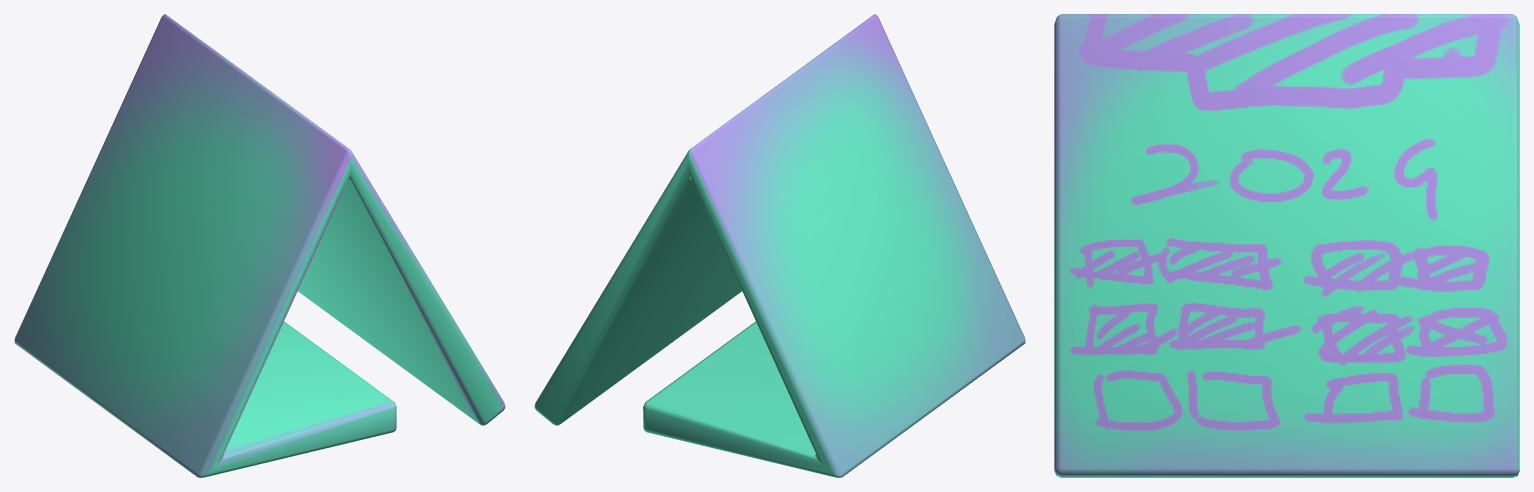
The model's file is F_Calender.fbx.
3 renders of one model, left to right at view 1: azimuth 30°, elevation 25°; view 2: azimuth 150°, elevation 25°; view 3: azimuth 270°, elevation 25°, orthographic. The views are drawn at different scales.
Visible parts, largest first — view 1: Calender; view 2: Calender; view 3: Calender.
Part boxes in pixels (x1=…): Calender: x1=14, y1=14, x2=505, y2=477; Calender: x1=534, y1=14, x2=1025, y2=477; Calender: x1=1054, y1=14, x2=1519, y2=477.
Size of the model in its own units: 5196 by 5016 by 5540.
